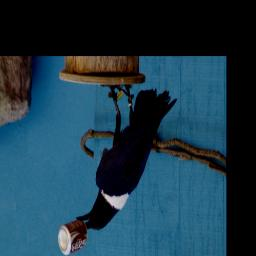Crow: (74, 83, 178, 232)
